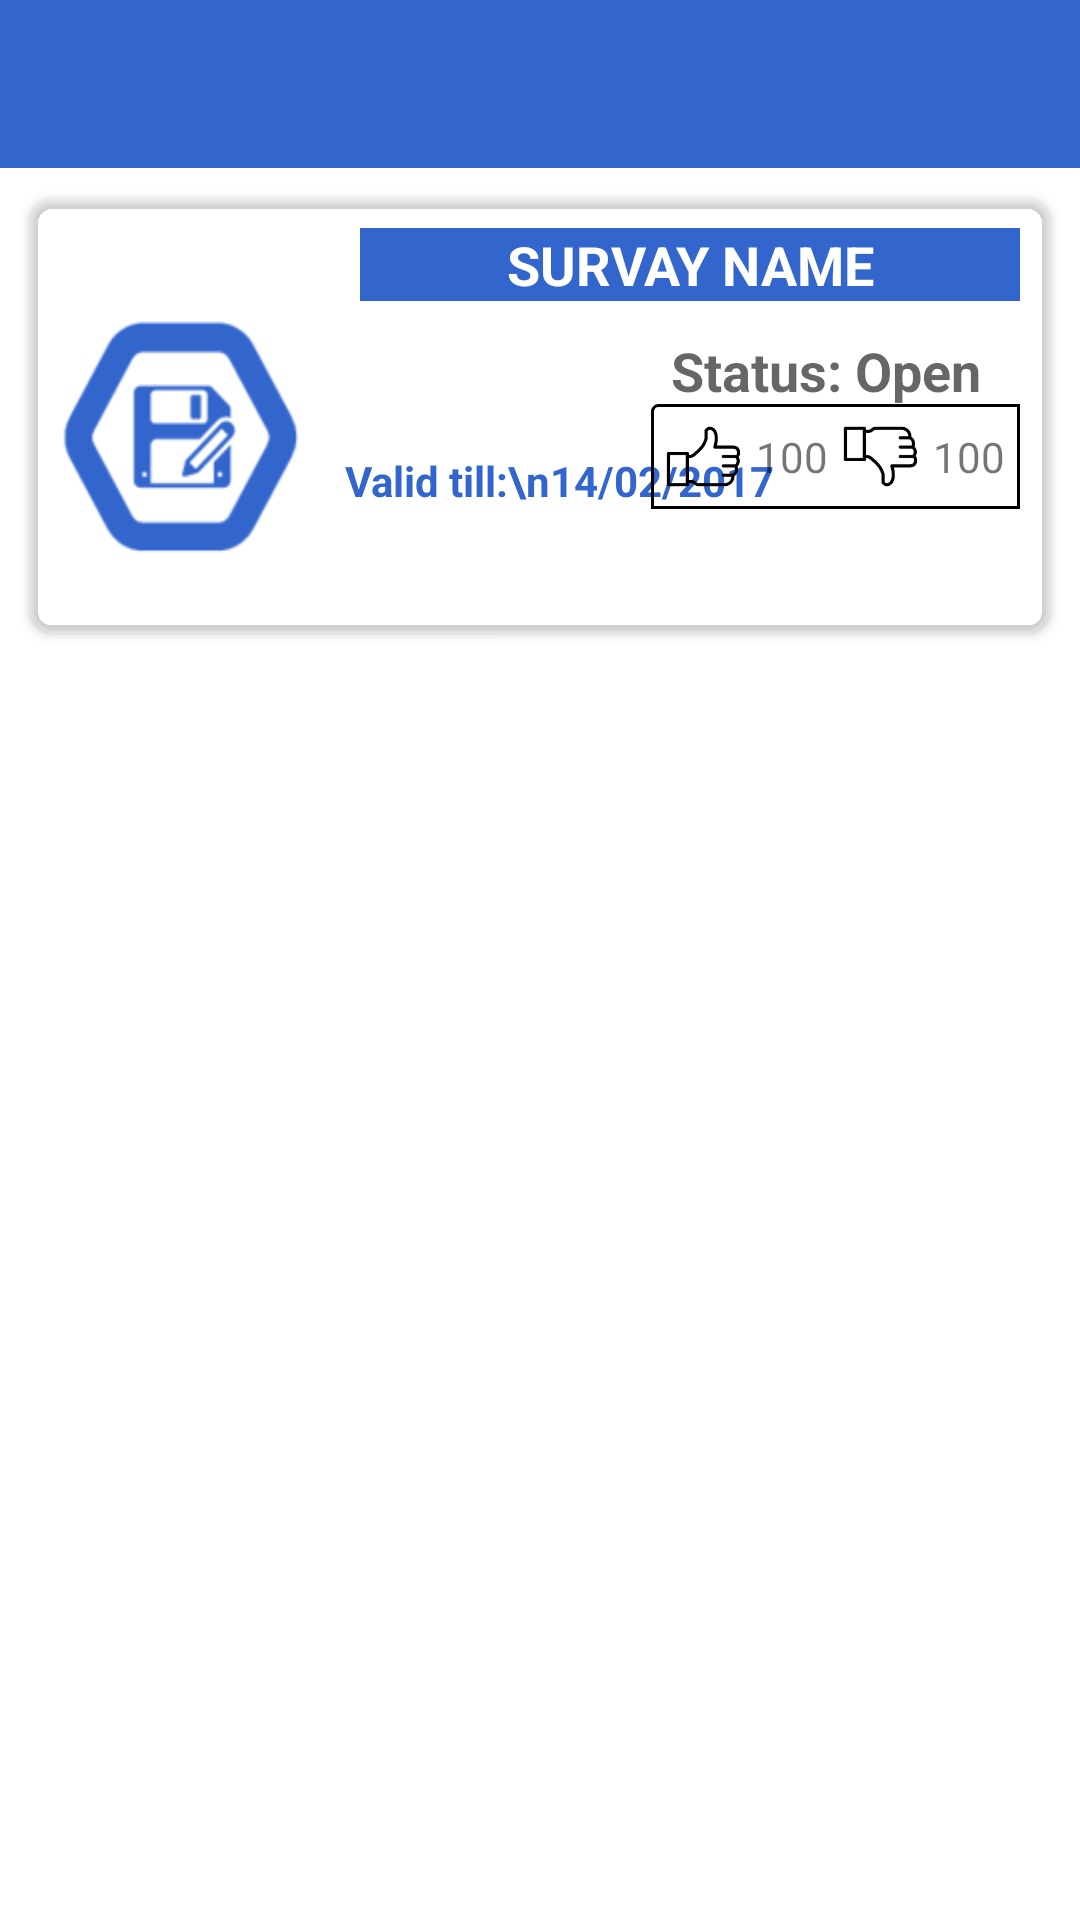

Locate icon controls on the screen. Image size 1080x1920, boxes as (x1, y1, x2, y2).
like: (666, 426, 741, 494)
unlike: (843, 426, 918, 487)
